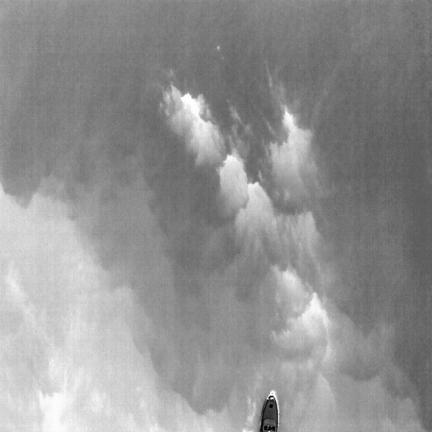flukeprints: (271, 109, 314, 189), (235, 185, 281, 259), (220, 154, 248, 211), (279, 270, 309, 315), (182, 94, 200, 117)
